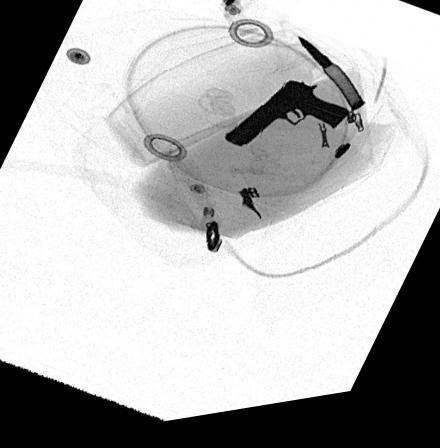Bullet: (299, 46, 367, 123)
Gun: (224, 88, 353, 154)
